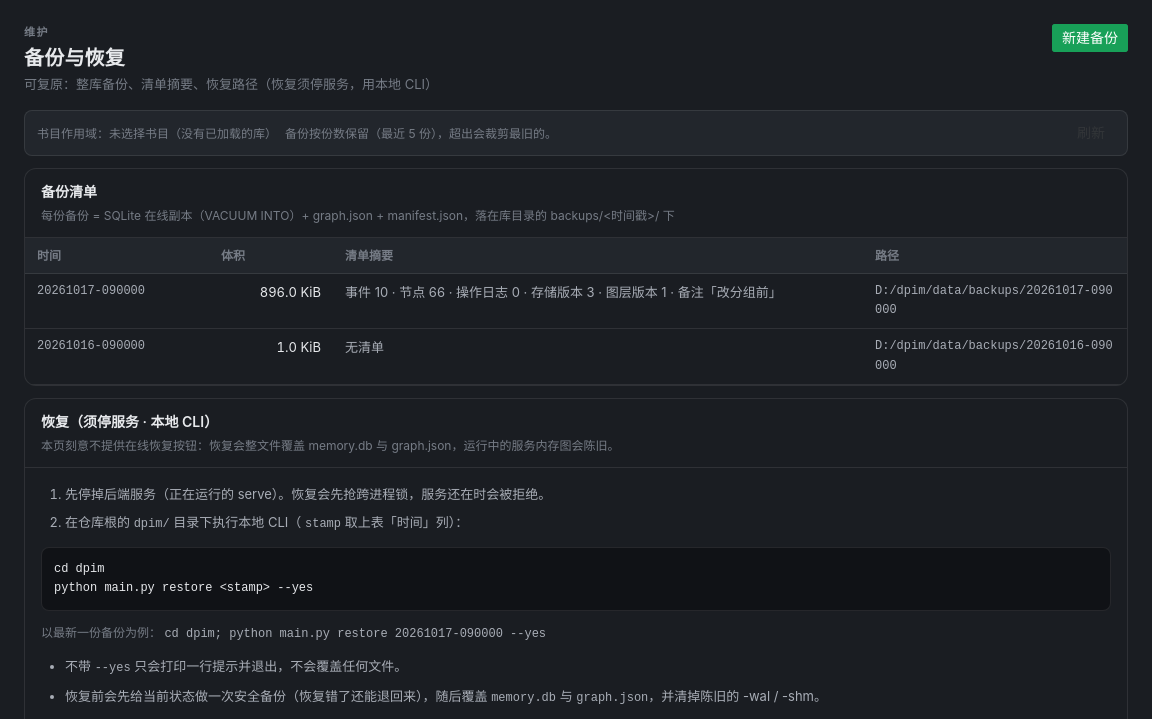
BackupPage（备份与恢复） › 新建备份：弹窗填备注 → 开始备份 → 回报 stamp/目录/裁剪份数
The width and height of the screenshot is (1152, 719).
Step 1. Click the button "新建备份" → (1090, 38), box [1052, 24, 1128, 52]
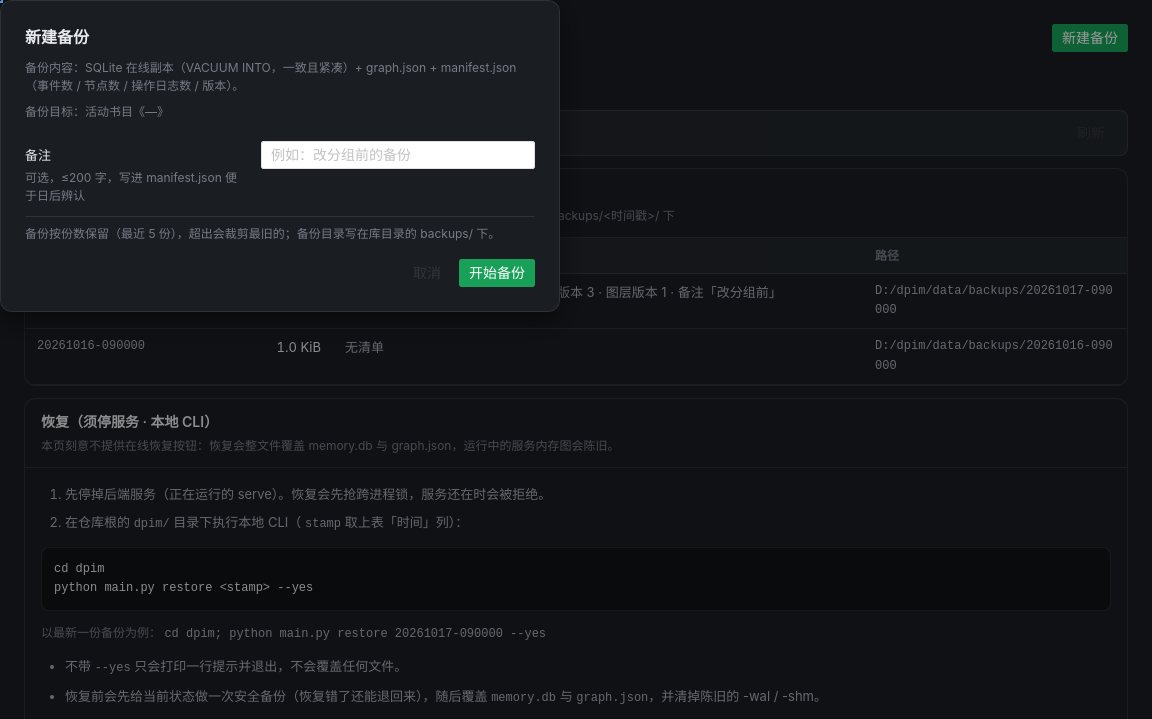
Now the element with class "modal-box" shows "新建备份", box [25, 27, 89, 47]
Step 2. Type "改分组前的备份" into the field with placeholder "例如：改分组前的备份" → (398, 155), box [271, 141, 525, 169]
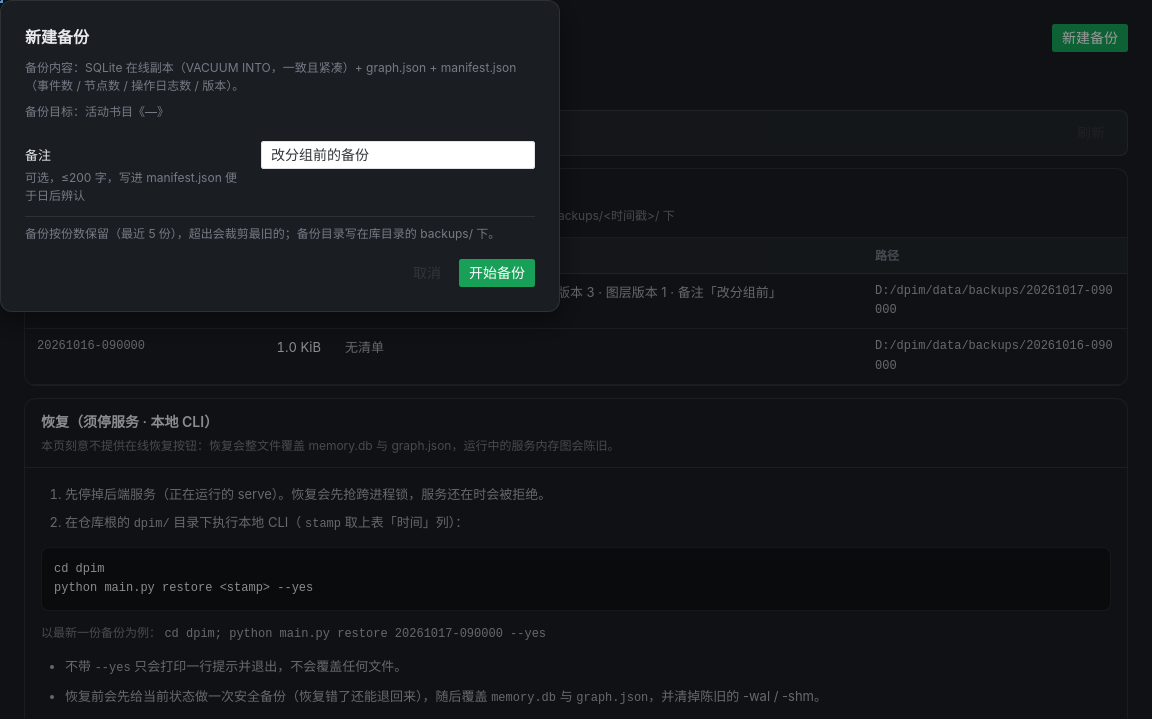
Step 3. Click the button "开始备份" → (497, 273), box [459, 259, 535, 287]
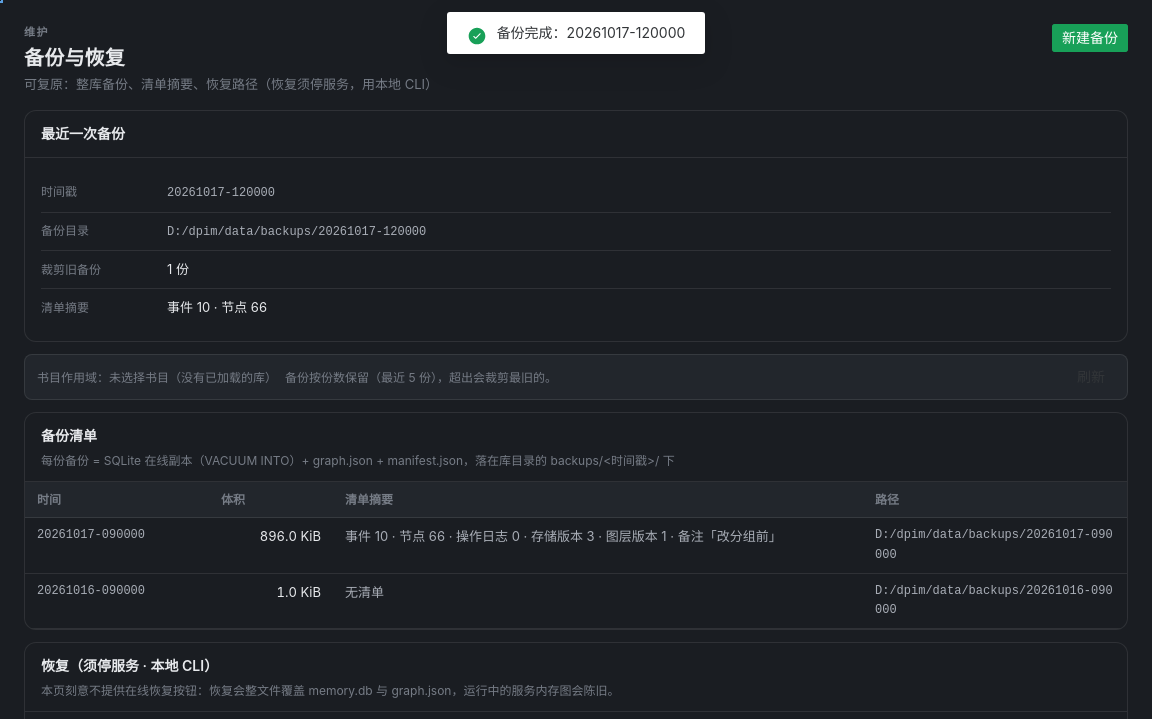
Now the text "最近一次备份" is shown, box [41, 123, 125, 146]
Now the text "20261017-120000" is shown, box [167, 184, 275, 204]
Now the text "D:/dpim/data/backups/20261017-120000" is shown, box [167, 223, 426, 242]
